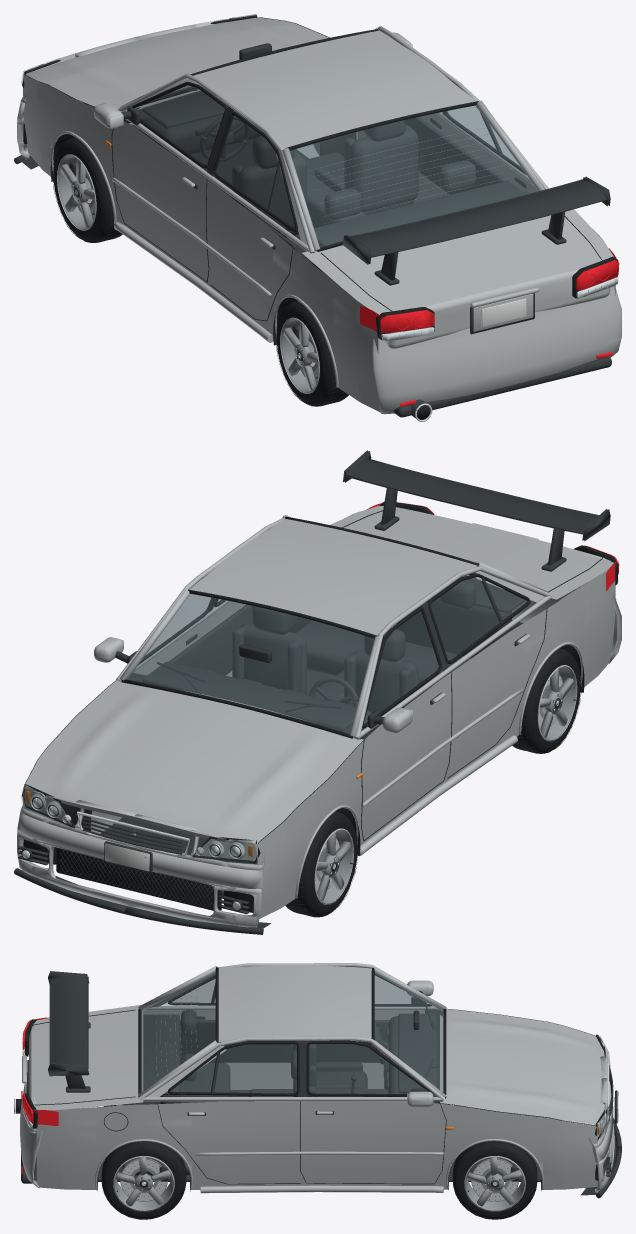
File: Sedan01_LOD1.fbx
The picture shows the model from 3 angles, top to bottom: view 1: azimuth 30°, elevation 25°; view 2: azimuth 150°, elevation 25°; view 3: azimuth 270°, elevation 25°; orthographic projection. The views are drawn at different scales.
Visible parts, largest first — view 1: Body, Glass, Wheel_FL, Wheel_RL; view 2: Body, Glass, Wheel_FL, Wheel_RL; view 3: Body, Glass, Wheel_FR, Wheel_RR.
Boxes of the visible parts, x1=… form: Body: x1=14, y1=14, x2=621, y2=421; Glass: x1=21, y1=19, x2=538, y2=247; Wheel_FL: x1=52, y1=137, x2=122, y2=242; Wheel_RL: x1=276, y1=301, x2=348, y2=406; Body: x1=14, y1=450, x2=621, y2=934; Glass: x1=21, y1=572, x2=526, y2=863; Wheel_FL: x1=285, y1=811, x2=358, y2=917; Wheel_RL: x1=512, y1=648, x2=581, y2=753; Body: x1=14, y1=963, x2=621, y2=1198; Glass: x1=141, y1=971, x2=611, y2=1139; Wheel_FR: x1=452, y1=1141, x2=537, y2=1219; Wheel_RR: x1=101, y1=1141, x2=186, y2=1219.
Bounding box in the file's own units: 2.14 × 1.48 × 4.68.
